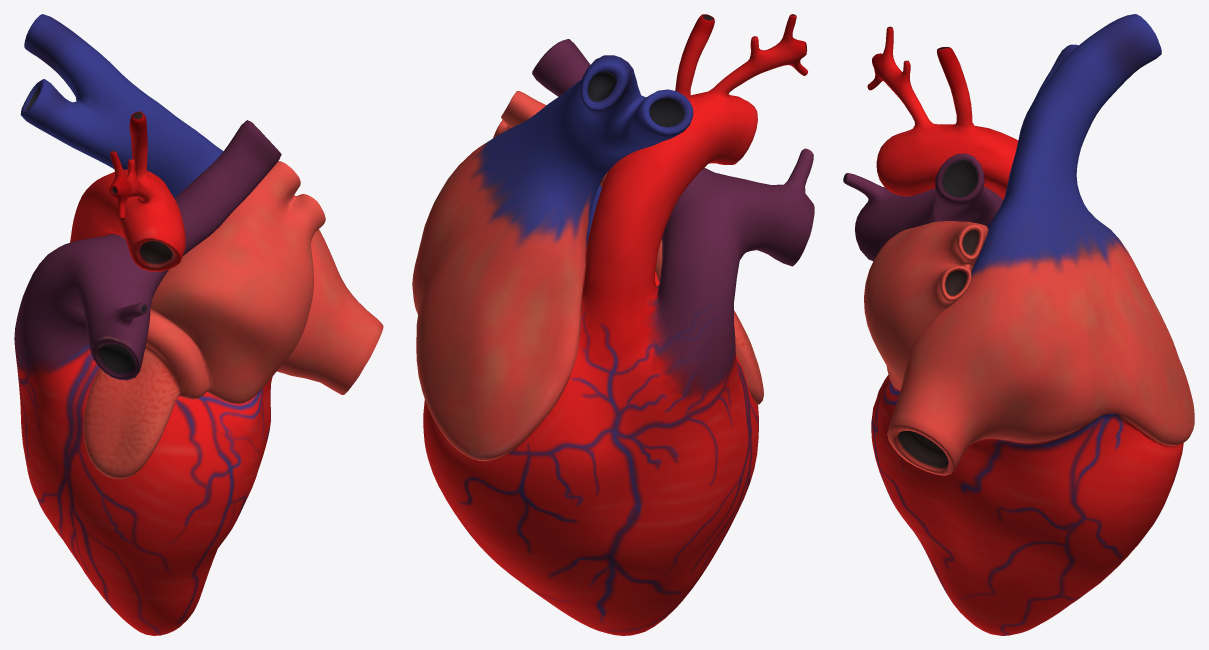
The model's file is jantung_manusia.glb.
The picture shows the model from 3 angles, left to right: view 1: azimuth 30°, elevation 25°; view 2: azimuth 150°, elevation 25°; view 3: azimuth 270°, elevation 25°; orthographic projection. The views are drawn at different scales.
Visible parts, largest first — view 1: node_id67_1; view 2: node_id67_1; view 3: node_id67_1.
Part boxes in pixels (left/top/right/bottom): node_id67_1: left=14, top=14, right=383, bottom=635; node_id67_1: left=412, top=14, right=814, bottom=635; node_id67_1: left=843, top=14, right=1194, bottom=635.
Size of the model in its own units: 0.1952 by 0.3504 by 0.1888.
1 material, 1 textured.
